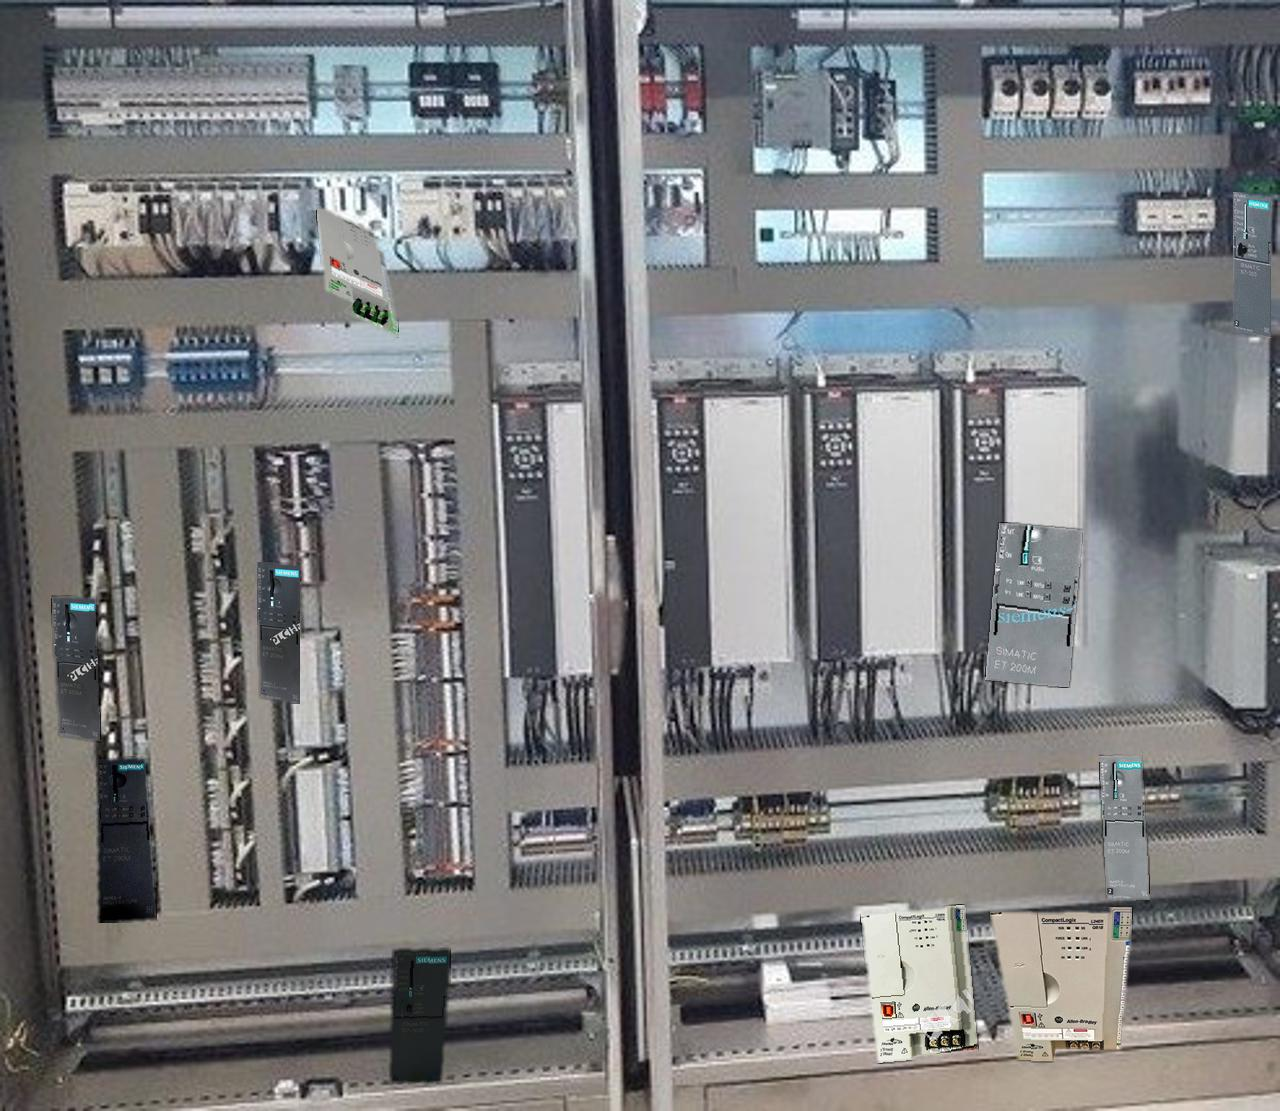AllenBradley: (990, 908, 1131, 1060), (861, 905, 977, 1062), (316, 205, 398, 336)
Siemens: (390, 949, 450, 1082), (1233, 192, 1270, 337)
